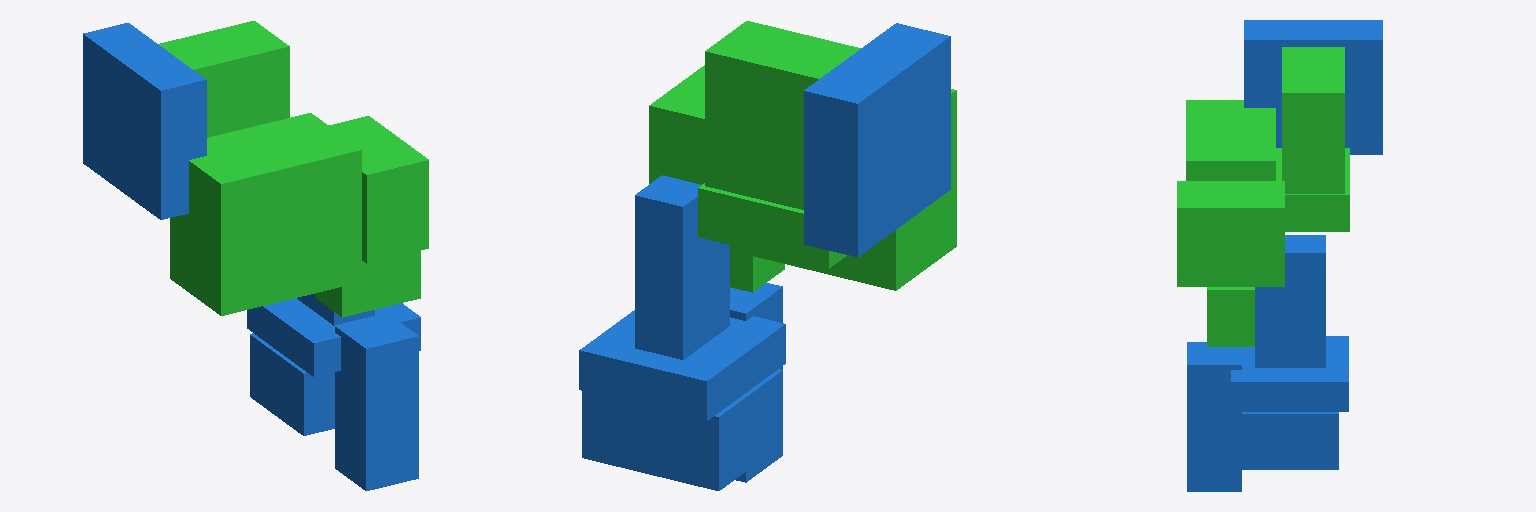
robot.urdf — robot:
<robot name = "robot">
    <link name="Link0">
        <inertial>
            <origin xyz="0 0 2" rpy="0 0 0"/>
            <mass value="0.3978776231703106" />
            <inertia ixx="100" ixy="0" ixz="0" iyy="100" iyz="0" izz="100" />
        </inertial>
        <visual>
            <origin xyz="0 0 2" rpy="0 0 0"/>
            <geometry>
                <box size="0.36819262934703845 1.0869977822135122 0.9941359213695352" />
            </geometry>
            <material name="No Sensor">
                <color rgba="0.184 0.553 0.933 1.0"/>
            </material>
        </visual>
        <collision>
            <origin xyz="0 0 2" rpy="0 0 0"/>
            <geometry>
                <box size="0.36819262934703845 1.0869977822135122 0.9941359213695352" />
            </geometry>
        </collision>
    </link>
    <joint name="Link0_Link1" type="revolute">
       <parent link="Link0"/>
       <child  link="Link1"/>
       <origin rpy="0 0 0" xyz="0.18409631467351922 0 2" />
       <axis xyz="1 0 0"/>
       <limit effort="0.0" lower="-3.14159" upper="3.14159" velocity="0.0"/>
    </joint>
    <link name="Link1">
        <inertial>
            <origin xyz="0.42026027382355857 0 0" rpy="0 0 0"/>
            <mass value="0.3617736271288184" />
            <inertia ixx="100" ixy="0" ixz="0" iyy="100" iyz="0" izz="100" />
        </inertial>
        <visual>
            <origin xyz="0.42026027382355857 0 0" rpy="0 0 0"/>
            <geometry>
                <box size="0.8405205476471171 0.4928915749648707 0.8732471451875841" />
            </geometry>
            <material name="Sensor">
                <color rgba="0.239 0.875 0.282 1.0"/>
            </material>
        </visual>
        <collision>
            <origin xyz="0.42026027382355857 0 0" rpy="0 0 0"/>
            <geometry>
                <box size="0.8405205476471171 0.4928915749648707 0.8732471451875841" />
            </geometry>
        </collision>
    </link>
    <joint name="Link1_Link2" type="revolute">
       <parent link="Link1"/>
       <child  link="Link2"/>
       <origin rpy="0 0 0" xyz="0.42026027382355857 0.0 -0.43662357259379203" />
       <axis xyz="0 1 0"/>
       <limit effort="0.0" lower="-3.14159" upper="3.14159" velocity="0.0"/>
    </joint>
    <link name="Link2">
        <inertial>
            <origin xyz="0.0 0.0 -0.15874467153377114" rpy="0 0 0"/>
            <mass value="0.1628996192536504" />
            <inertia ixx="100" ixy="0" ixz="0" iyy="100" iyz="0" izz="100" />
        </inertial>
        <visual>
            <origin xyz="0.0 0.0 -0.15874467153377114" rpy="0 0 0"/>
            <geometry>
                <box size="0.888355320741173 0.5775694441123251 0.3174893430675423" />
            </geometry>
            <material name="Sensor">
                <color rgba="0.239 0.875 0.282 1.0"/>
            </material>
        </visual>
        <collision>
            <origin xyz="0.0 0.0 -0.15874467153377114" rpy="0 0 0"/>
            <geometry>
                <box size="0.888355320741173 0.5775694441123251 0.3174893430675423" />
            </geometry>
        </collision>
    </link>
    <joint name="Link2_Link3" type="revolute">
       <parent link="Link2"/>
       <child  link="Link3"/>
       <origin rpy="0 0 0" xyz="0.0 -0.28878472205616257 -0.15874467153377114" />
       <axis xyz="0 0 1"/>
       <limit effort="0.0" lower="-3.14159" upper="3.14159" velocity="0.0"/>
    </joint>
    <link name="Link3">
        <inertial>
            <origin xyz="0.0 -0.3549783655371292 0.0" rpy="0 0 0"/>
            <mass value="0.813768195156983" />
            <inertia ixx="100" ixy="0" ixz="0" iyy="100" iyz="0" izz="100" />
        </inertial>
        <visual>
            <origin xyz="0.0 -0.3549783655371292 0.0" rpy="0 0 0"/>
            <geometry>
                <box size="1.1305385975643267 0.7099567310742584 1.01387271806643" />
            </geometry>
            <material name="Sensor">
                <color rgba="0.239 0.875 0.282 1.0"/>
            </material>
        </visual>
        <collision>
            <origin xyz="0.0 -0.3549783655371292 0.0" rpy="0 0 0"/>
            <geometry>
                <box size="1.1305385975643267 0.7099567310742584 1.01387271806643" />
            </geometry>
        </collision>
    </link>
    <joint name="Link3_Link4" type="revolute">
       <parent link="Link3"/>
       <child  link="Link4"/>
       <origin rpy="0 0 0" xyz="0.5652692987821634 -0.3549783655371292 0.0" />
       <axis xyz="0 0 1"/>
       <limit effort="0.0" lower="-3.14159" upper="3.14159" velocity="0.0"/>
    </joint>
    <link name="Link4">
        <inertial>
            <origin xyz="0.25194431047136984 0.0 0.0" rpy="0 0 0"/>
            <mass value="0.2877856799700098" />
            <inertia ixx="100" ixy="0" ixz="0" iyy="100" iyz="0" izz="100" />
        </inertial>
        <visual>
            <origin xyz="0.25194431047136984 0.0 0.0" rpy="0 0 0"/>
            <geometry>
                <box size="0.5038886209427397 0.8413871822675169 0.6787951603487977" />
            </geometry>
            <material name="Sensor">
                <color rgba="0.239 0.875 0.282 1.0"/>
            </material>
        </visual>
        <collision>
            <origin xyz="0.25194431047136984 0.0 0.0" rpy="0 0 0"/>
            <geometry>
                <box size="0.5038886209427397 0.8413871822675169 0.6787951603487977" />
            </geometry>
        </collision>
    </link>
    <joint name="Link4_Link5" type="revolute">
       <parent link="Link4"/>
       <child  link="Link5"/>
       <origin rpy="0 0 0" xyz="0.25194431047136984 0.0 -0.33939758017439886" />
       <axis xyz="0 0 1"/>
       <limit effort="0.0" lower="-3.14159" upper="3.14159" velocity="0.0"/>
    </joint>
    <link name="Link5">
        <inertial>
            <origin xyz="0.0 0.0 -0.24713333160448792" rpy="0 0 0"/>
            <mass value="0.11769515941051298" />
            <inertia ixx="100" ixy="0" ixz="0" iyy="100" iyz="0" izz="100" />
        </inertial>
        <visual>
            <origin xyz="0.0 0.0 -0.24713333160448792" rpy="0 0 0"/>
            <geometry>
                <box size="0.6321006425491396 0.37671338384692277 0.49426666320897583" />
            </geometry>
            <material name="Sensor">
                <color rgba="0.239 0.875 0.282 1.0"/>
            </material>
        </visual>
        <collision>
            <origin xyz="0.0 0.0 -0.24713333160448792" rpy="0 0 0"/>
            <geometry>
                <box size="0.6321006425491396 0.37671338384692277 0.49426666320897583" />
            </geometry>
        </collision>
    </link>
    <joint name="Link5_Link6" type="revolute">
       <parent link="Link5"/>
       <child  link="Link6"/>
       <origin rpy="0 0 0" xyz="0.0 0.18835669192346138 -0.24713333160448792" />
       <axis xyz="1 0 0"/>
       <limit effort="0.0" lower="-3.14159" upper="3.14159" velocity="0.0"/>
    </joint>
    <link name="Link6">
        <inertial>
            <origin xyz="0.0 0.2764291523587893 0.0" rpy="0 0 0"/>
            <mass value="0.1805688456472148" />
            <inertia ixx="100" ixy="0" ixz="0" iyy="100" iyz="0" izz="100" />
        </inertial>
        <visual>
            <origin xyz="0.0 0.2764291523587893 0.0" rpy="0 0 0"/>
            <geometry>
                <box size="0.32934158295831895 0.5528583047175786 0.9917048002315554" />
            </geometry>
            <material name="No Sensor">
                <color rgba="0.184 0.553 0.933 1.0"/>
            </material>
        </visual>
        <collision>
            <origin xyz="0.0 0.2764291523587893 0.0" rpy="0 0 0"/>
            <geometry>
                <box size="0.32934158295831895 0.5528583047175786 0.9917048002315554" />
            </geometry>
        </collision>
    </link>
    <joint name="Link6_Link7" type="revolute">
       <parent link="Link6"/>
       <child  link="Link7"/>
       <origin rpy="0 0 0" xyz="0.0 0.2764291523587893 -0.4958524001157777" />
       <axis xyz="0 0 1"/>
       <limit effort="0.0" lower="-3.14159" upper="3.14159" velocity="0.0"/>
    </joint>
    <link name="Link7">
        <inertial>
            <origin xyz="0.0 0.0 -0.1291915397625158" rpy="0 0 0"/>
            <mass value="0.20616388640356775" />
            <inertia ixx="100" ixy="0" ixz="0" iyy="100" iyz="0" izz="100" />
        </inertial>
        <visual>
            <origin xyz="0.0 0.0 -0.1291915397625158" rpy="0 0 0"/>
            <geometry>
                <box size="0.8650157249710488 0.9224110989339258 0.2583830795250316" />
            </geometry>
            <material name="No Sensor">
                <color rgba="0.184 0.553 0.933 1.0"/>
            </material>
        </visual>
        <collision>
            <origin xyz="0.0 0.0 -0.1291915397625158" rpy="0 0 0"/>
            <geometry>
                <box size="0.8650157249710488 0.9224110989339258 0.2583830795250316" />
            </geometry>
        </collision>
    </link>
    <joint name="Link7_Link8" type="revolute">
       <parent link="Link7"/>
       <child  link="Link8"/>
       <origin rpy="0 0 0" xyz="0.0 0.0 -0.2583830795250316" />
       <axis xyz="0 1 0"/>
       <limit effort="0.0" lower="-3.14159" upper="3.14159" velocity="0.0"/>
    </joint>
    <link name="Link8">
        <inertial>
            <origin xyz="0.0 0.0 -0.2404542252420896" rpy="0 0 0"/>
            <mass value="0.3362683132688863" />
            <inertia ixx="100" ixy="0" ixz="0" iyy="100" iyz="0" izz="100" />
        </inertial>
        <visual>
            <origin xyz="0.0 0.0 -0.2404542252420896" rpy="0 0 0"/>
            <geometry>
                <box size="0.9283769722513199 0.753180690542887 0.4809084504841792" />
            </geometry>
            <material name="No Sensor">
                <color rgba="0.184 0.553 0.933 1.0"/>
            </material>
        </visual>
        <collision>
            <origin xyz="0.0 0.0 -0.2404542252420896" rpy="0 0 0"/>
            <geometry>
                <box size="0.9283769722513199 0.753180690542887 0.4809084504841792" />
            </geometry>
        </collision>
    </link>
    <joint name="Link8_Link9" type="revolute">
       <parent link="Link8"/>
       <child  link="Link9"/>
       <origin rpy="0 0 0" xyz="0.0 -0.3765903452714435 -0.2404542252420896" />
       <axis xyz="0 1 0"/>
       <limit effort="0.0" lower="-3.14159" upper="3.14159" velocity="0.0"/>
    </joint>
    <link name="Link9">
        <inertial>
            <origin xyz="0.0 -0.2174914827754149 0.0" rpy="0 0 0"/>
            <mass value="0.20224413627220272" />
            <inertia ixx="100" ixy="0" ixz="0" iyy="100" iyz="0" izz="100" />
        </inertial>
        <visual>
            <origin xyz="0.0 -0.2174914827754149 0.0" rpy="0 0 0"/>
            <geometry>
                <box size="0.4248965089819222 0.4349829655508298 1.0942600050750984" />
            </geometry>
            <material name="No Sensor">
                <color rgba="0.184 0.553 0.933 1.0"/>
            </material>
        </visual>
        <collision>
            <origin xyz="0.0 -0.2174914827754149 0.0" rpy="0 0 0"/>
            <geometry>
                <box size="0.4248965089819222 0.4349829655508298 1.0942600050750984" />
            </geometry>
        </collision>
    </link>
</robot>

--- What the picture shows (computed from the rendered views, not written in the file) ---
The picture shows the robot from 3 angles, left to right: view 1: azimuth 30°, elevation 25°; view 2: azimuth 150°, elevation 25°; view 3: azimuth 270°, elevation 25°; orthographic projection.
Robot: robot — 10 links, 9 joints (9 revolute); root link Link0; default pose: all joints at 0.
Links seen in each view (by area): view 1: Link3, Link0, Link9, Link1, Link4, Link8, Link7, Link5, Link6; view 2: Link0, Link1, Link8, Link6, Link7, Link3, Link2, Link4, Link9, Link5; view 3: Link4, Link0, Link1, Link6, Link9, Link3, Link7, Link8, Link2, Link5.
Boxes of the visible links, x1,y1,x2,y2 form: Link3: [170, 113, 361, 315]; Link0: [83, 23, 206, 219]; Link9: [335, 313, 418, 490]; Link1: [159, 21, 289, 137]; Link4: [329, 116, 428, 263]; Link8: [250, 333, 334, 435]; Link7: [247, 298, 420, 376]; Link5: [315, 250, 420, 317]; Link6: [297, 294, 374, 325]; Link0: [804, 23, 950, 256]; Link1: [705, 21, 860, 209]; Link8: [582, 369, 782, 490]; Link6: [635, 175, 729, 359]; Link7: [579, 310, 785, 420]; Link3: [729, 89, 956, 290]; Link2: [698, 183, 846, 268]; Link4: [649, 65, 704, 184]; Link9: [730, 283, 782, 482]; Link5: [730, 251, 784, 292]; Link4: [1177, 181, 1284, 286]; Link0: [1244, 20, 1382, 154]; Link1: [1282, 47, 1344, 193]; Link6: [1255, 235, 1325, 367]; Link9: [1187, 342, 1241, 491]; Link3: [1186, 100, 1275, 180]; Link7: [1231, 336, 1348, 411]; Link8: [1242, 412, 1338, 469]; Link2: [1276, 148, 1349, 231]; Link5: [1207, 287, 1254, 346].
Bounding box of the posed robot: 2.07 × 1.61 × 3.22 m (x, y, z).
Geometry: primitives only (box / cylinder / sphere), no mesh files.